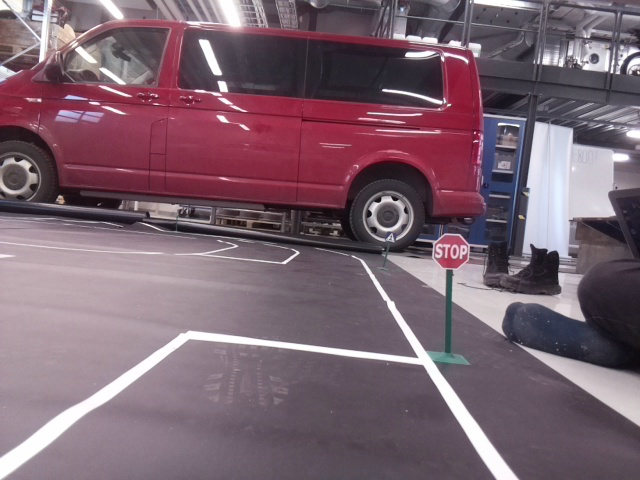Stop: (428, 233, 469, 268)
